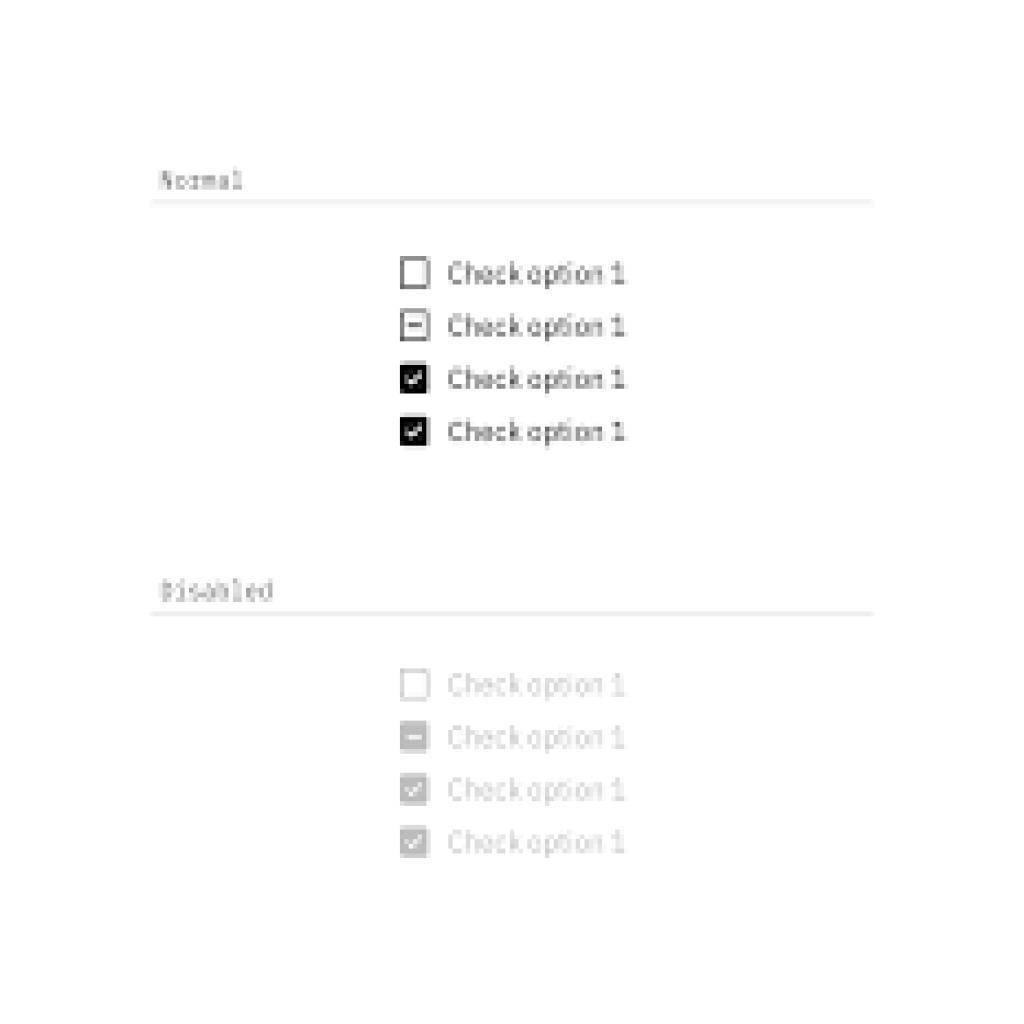checkbox: (400, 412, 432, 449), (400, 721, 433, 755), (402, 772, 432, 809), (401, 670, 433, 704), (400, 361, 432, 395), (401, 825, 433, 859), (401, 308, 432, 343), (400, 258, 433, 290)
label: (447, 417, 630, 451), (447, 364, 630, 396), (447, 670, 628, 702), (447, 260, 629, 288), (448, 725, 628, 753), (447, 829, 627, 857), (448, 777, 627, 805), (447, 312, 630, 338), (158, 577, 276, 605), (159, 169, 243, 192)
